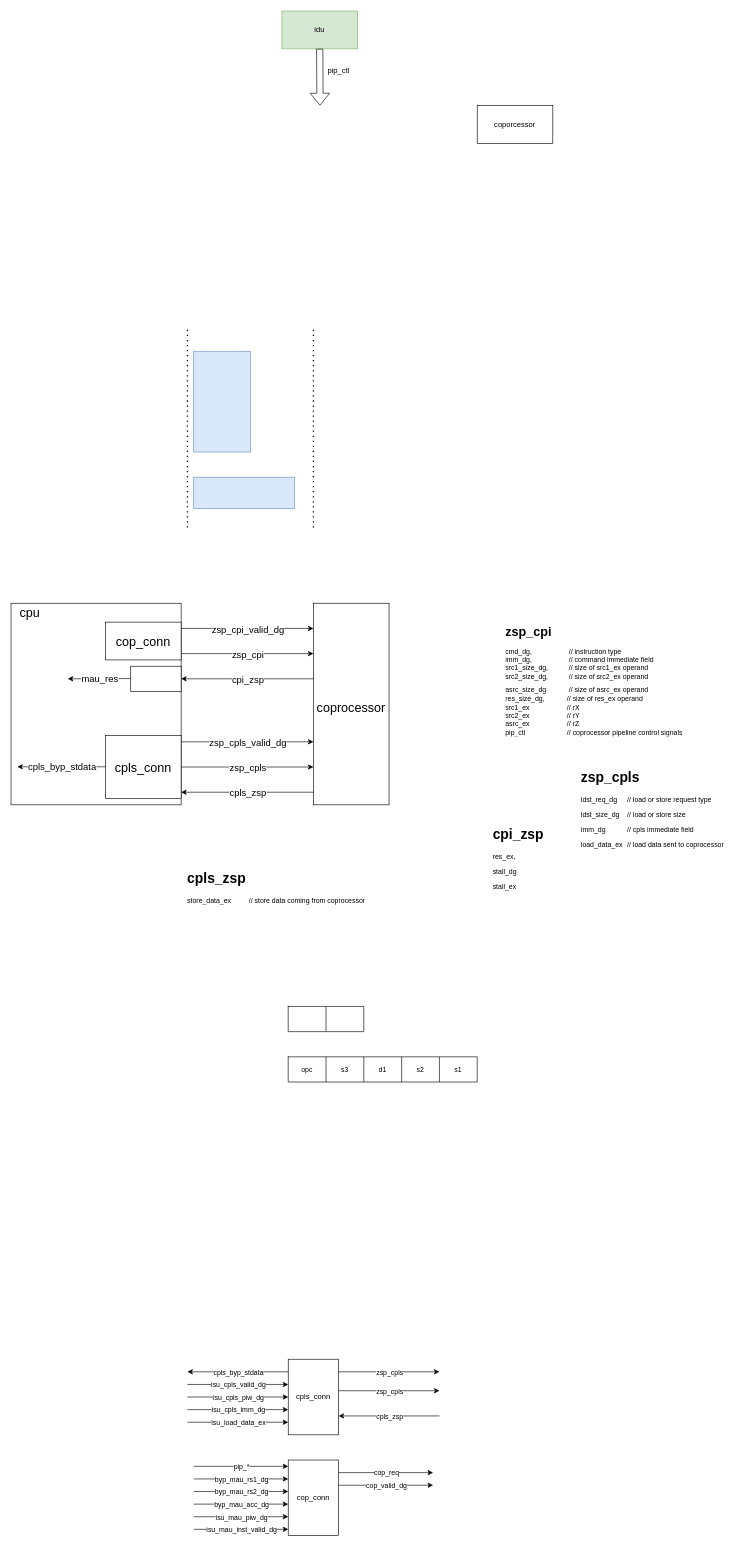
Image size: 740x1547. Some labels were removed from this diagram. Each missing label, with the centre of its shape:
"bypass" belongs at (x=244, y=493).
"isu" belongs at (x=221, y=401).
"mau" belongs at (x=155, y=678).
